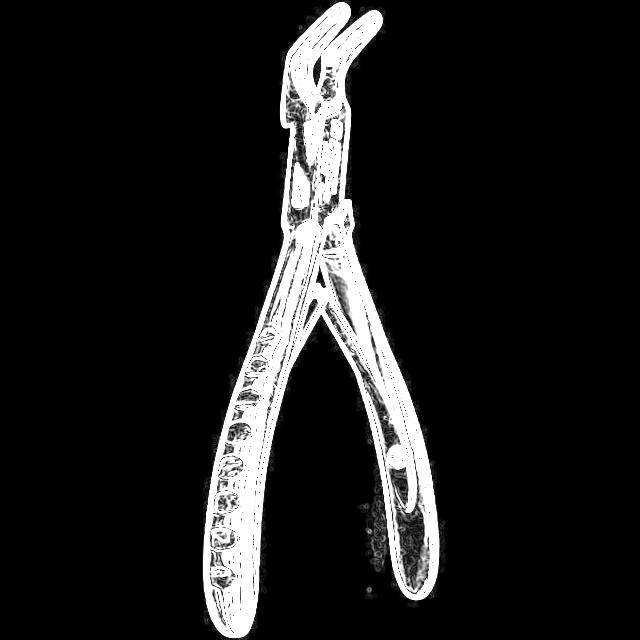gubia: (201, 0, 443, 639)
